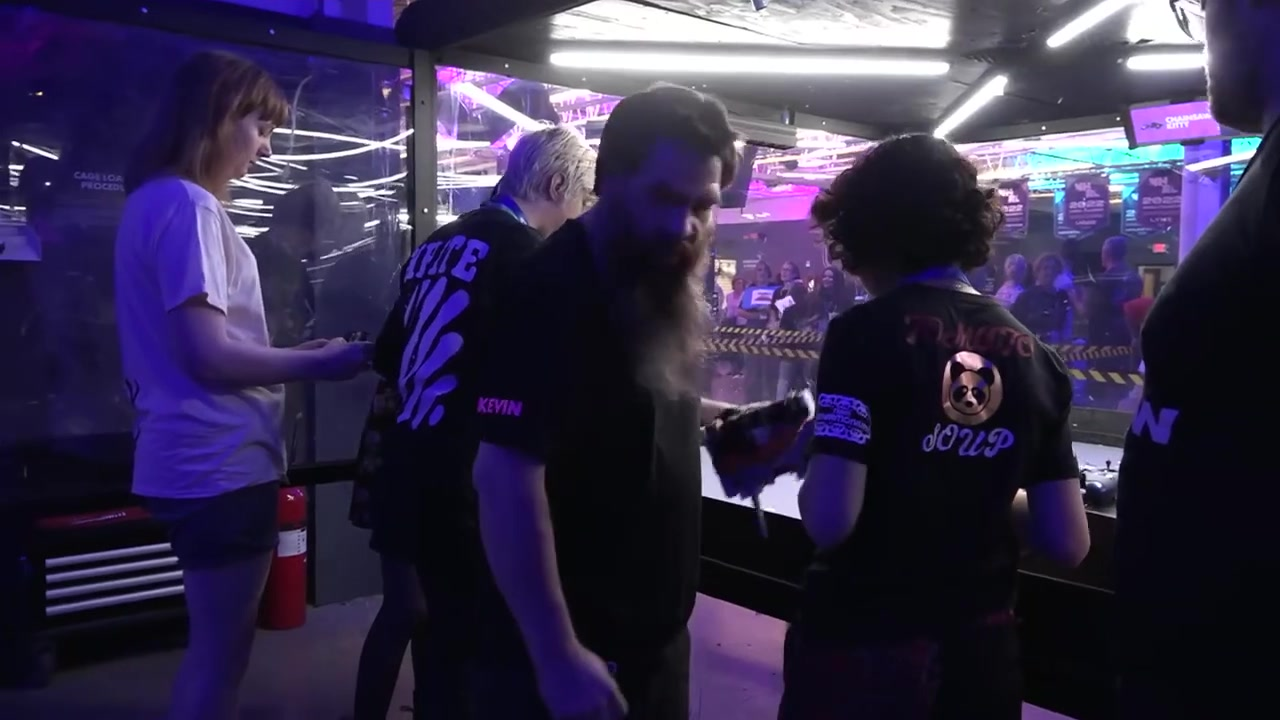combatbot: (1068, 447, 1122, 516)
